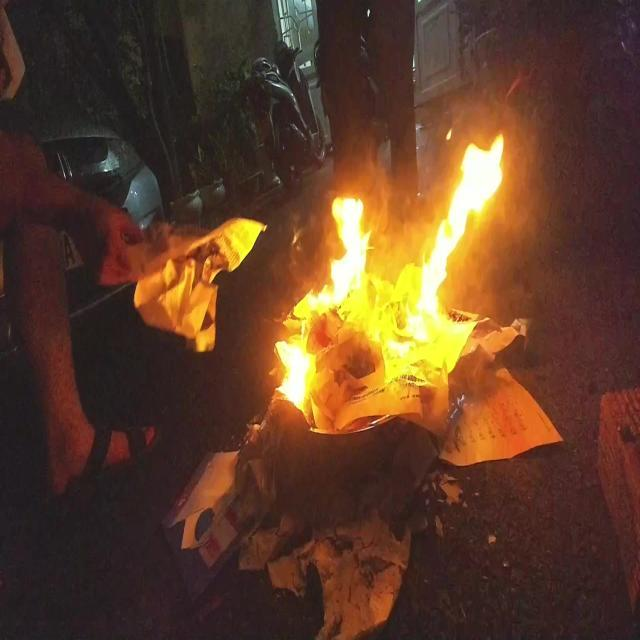Fire: (270, 129, 505, 408)
